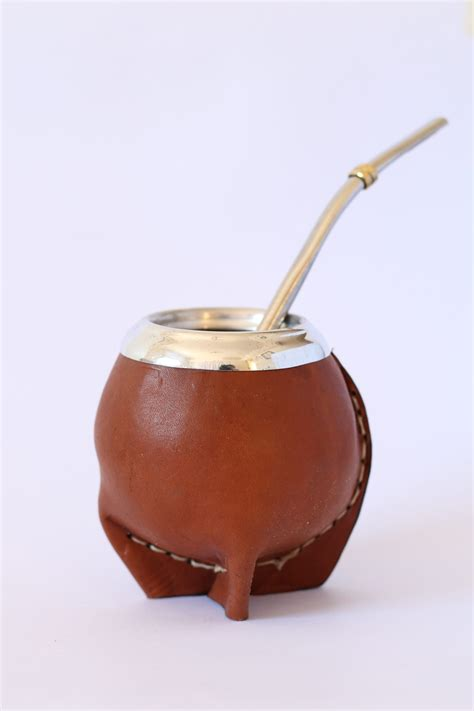cuero: (90, 355, 371, 622)
